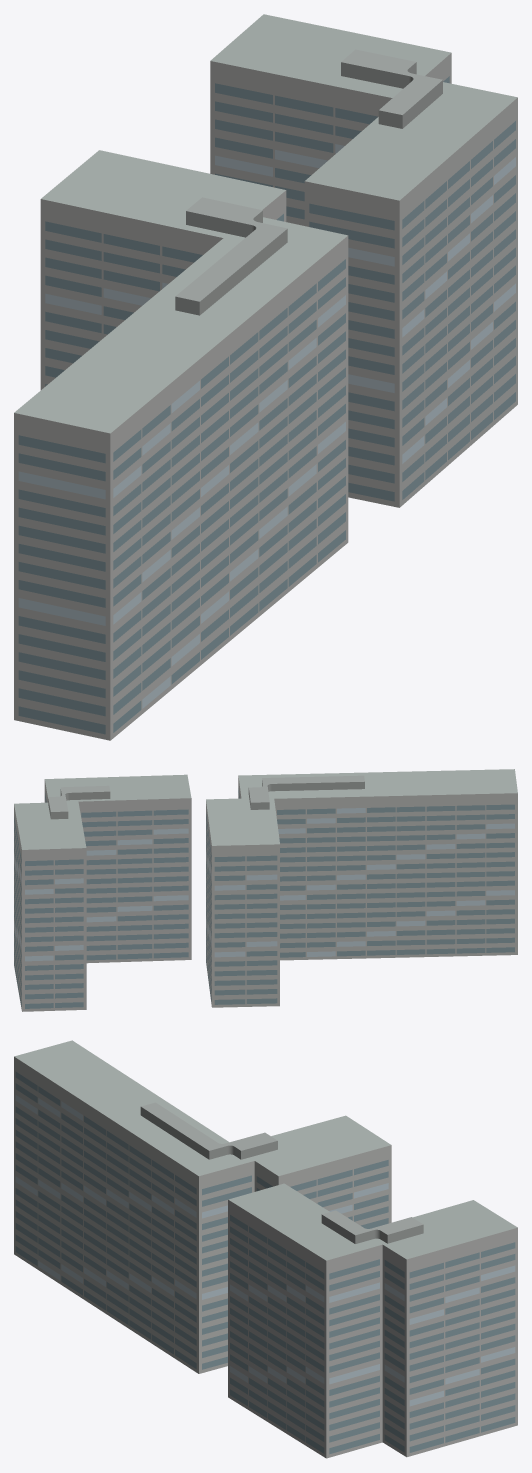
The model's file is apt-a13817202.glb.
3 views of the same model, one above another, from view 1: azimuth 30°, elevation 25°; view 2: azimuth 150°, elevation 25°; view 3: azimuth 270°, elevation 25° (orthographic). The views are drawn at different scales.
Parts seen in each view (by area): view 1: apt-a13817202; view 2: apt-a13817202; view 3: apt-a13817202.
Boxes of the visible parts, <box> form: apt-a13817202: <box>14,14,517,740</box>; apt-a13817202: <box>14,769,517,1011</box>; apt-a13817202: <box>14,1040,517,1458</box>.
Bounding box in the file's own units: 124 × 54.18 × 120.
